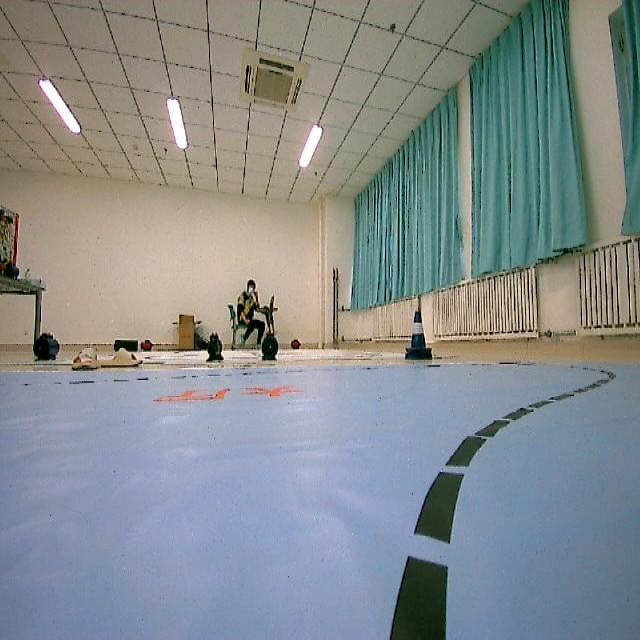obstacle: (396, 308, 436, 368)
